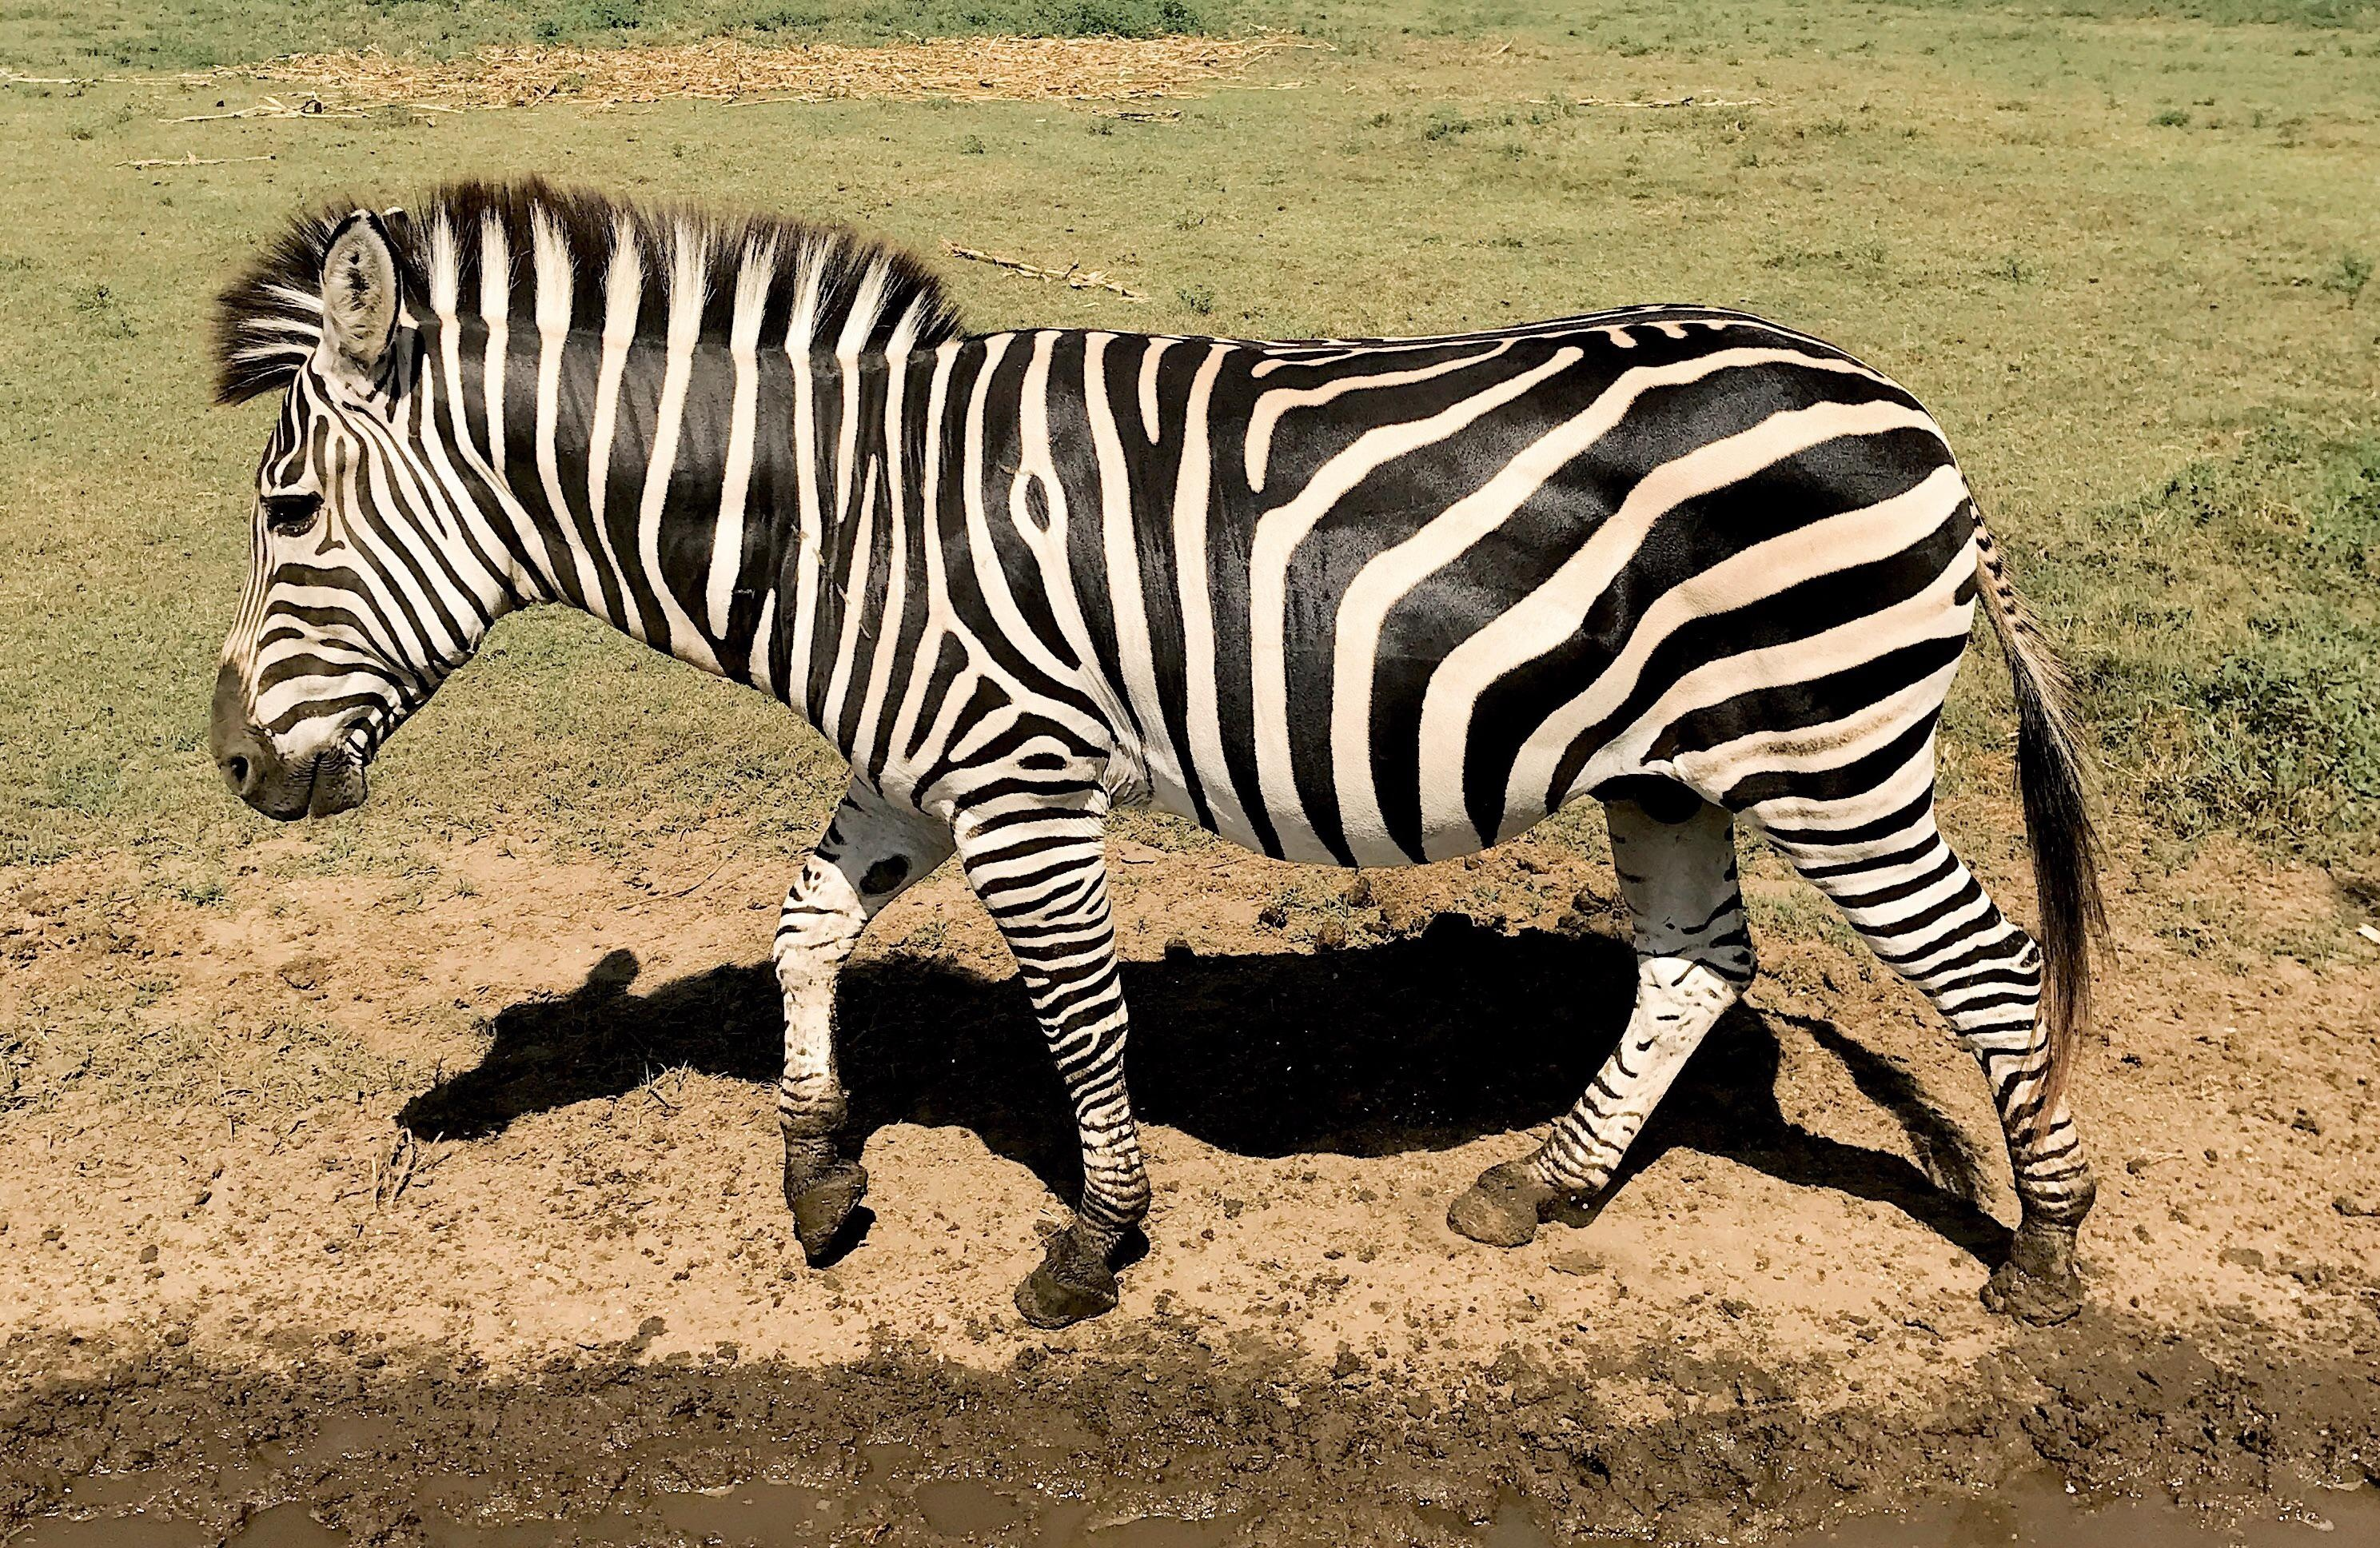zebra: (196, 161, 2125, 1322)
